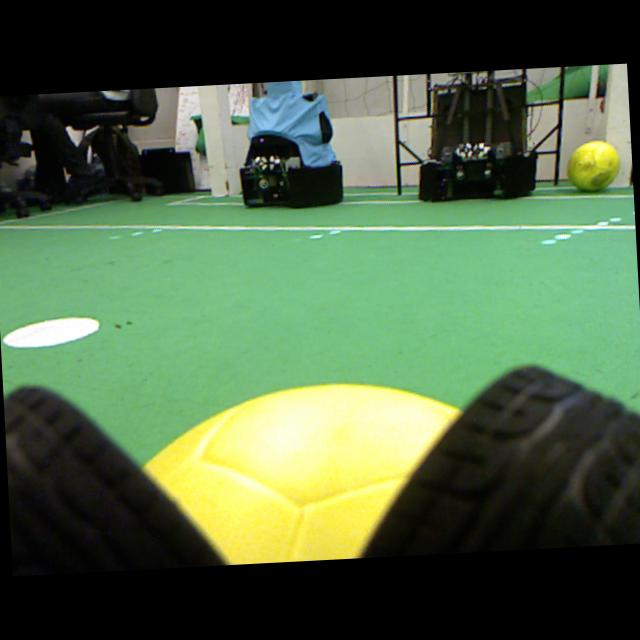ball: (141, 384, 465, 564), (568, 140, 620, 192)
goal: (199, 85, 229, 196), (606, 64, 632, 187)
robot: (419, 69, 537, 203)
